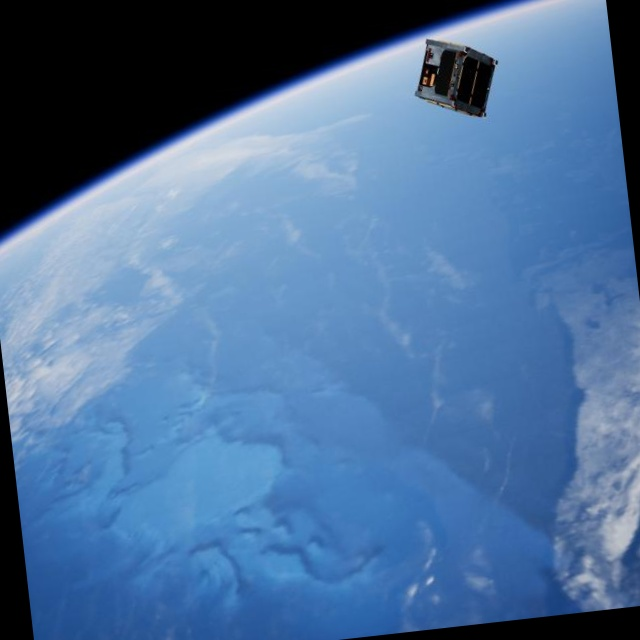medium_debris: (411, 32, 508, 137)
